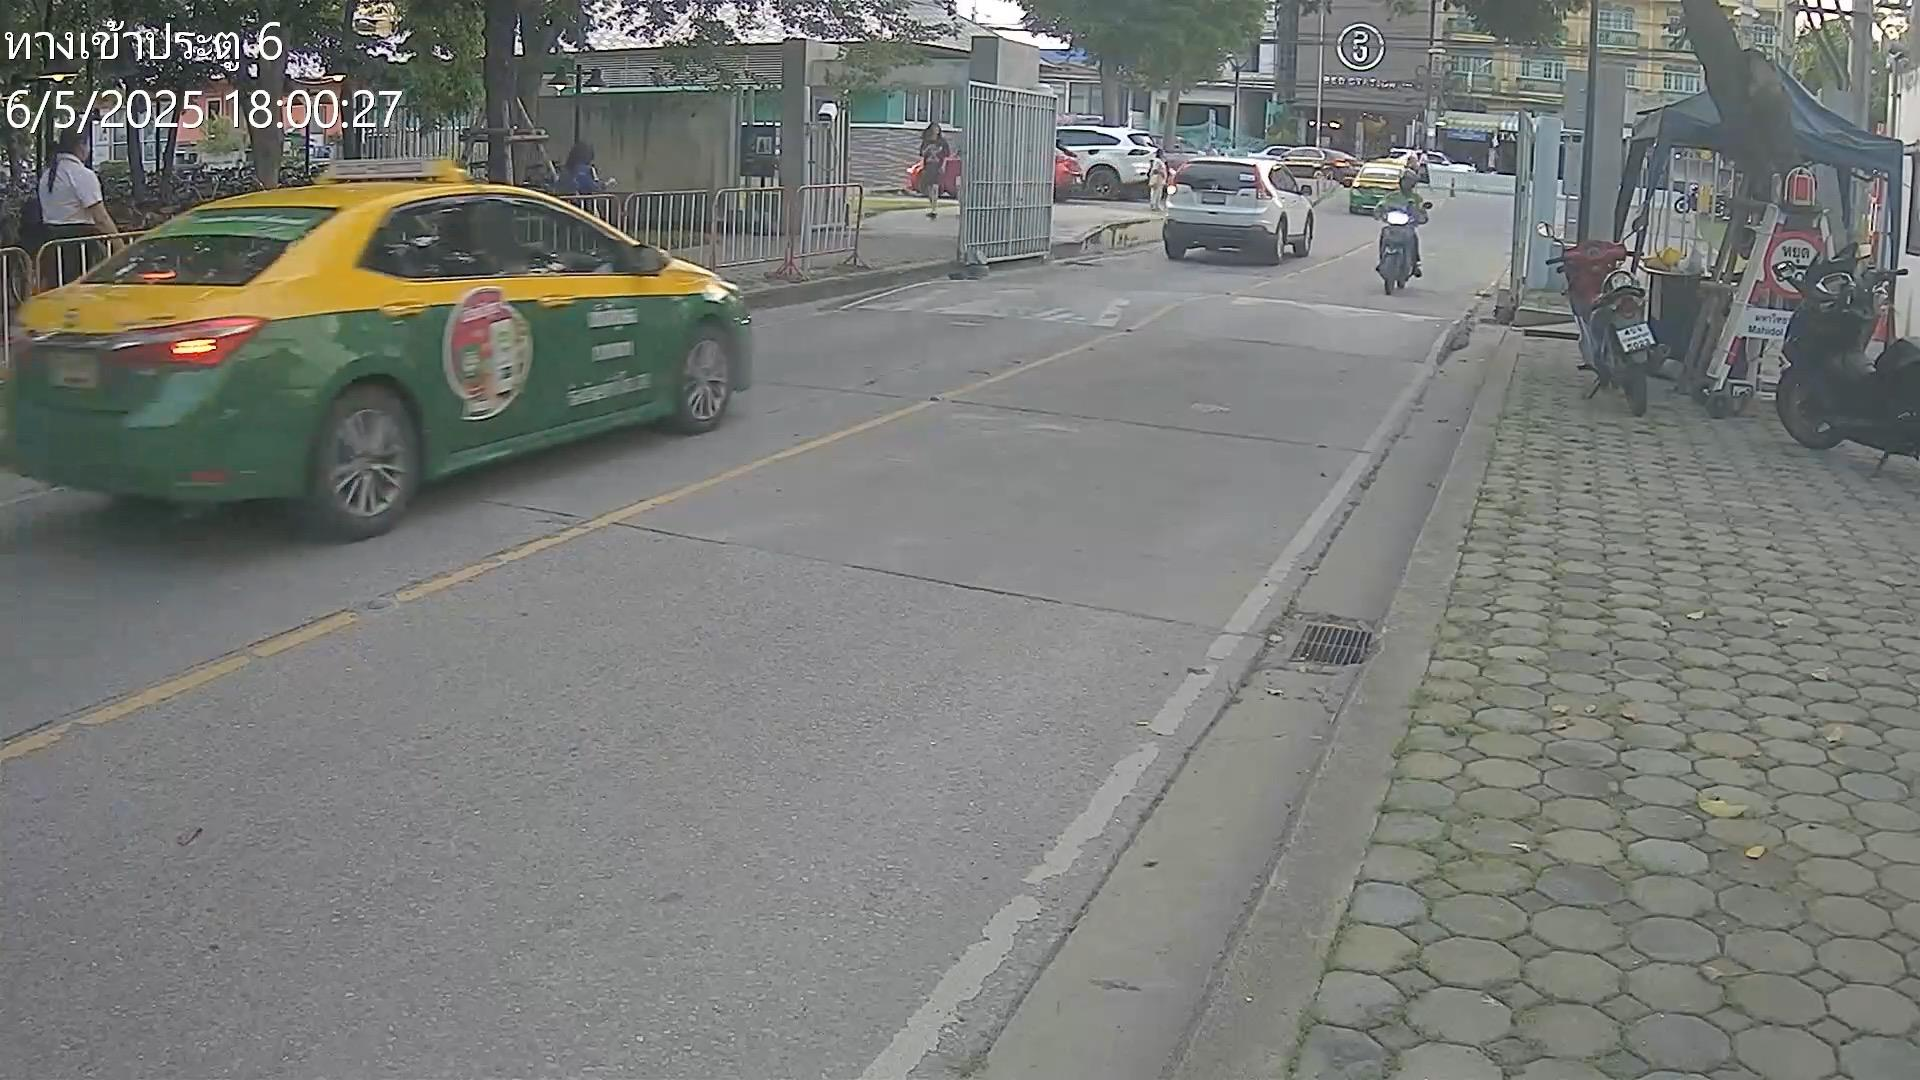With-Helmet: (1399, 169, 1418, 190)
